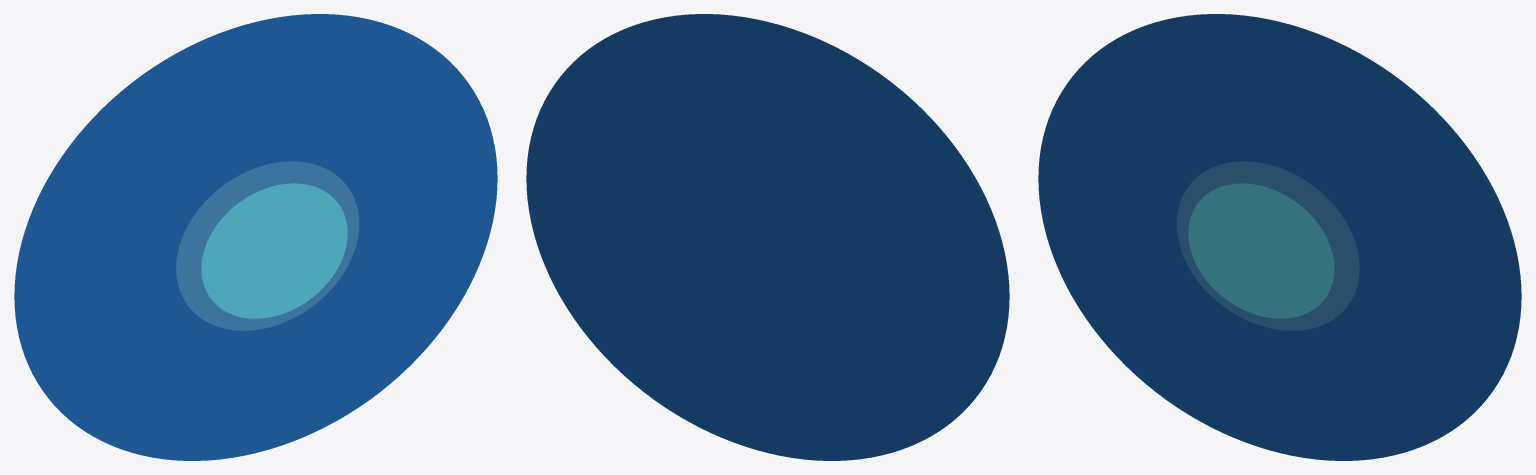
Rendered from BG_GameTitle_WizardsBeLike.fbx.
3 renders of one model, left to right at view 1: azimuth 30°, elevation 25°; view 2: azimuth 150°, elevation 25°; view 3: azimuth 330°, elevation 25°, orthographic.
Parts seen in each view (by area): view 1: Circle, Circle.002, Circle.001; view 2: Circle; view 3: Circle, Circle.002, Circle.001.
Part boxes in pixels (box(x1,y1,x2,y2)): Circle: box(14, 14, 497, 460); Circle.002: box(201, 183, 347, 318); Circle.001: box(176, 161, 359, 330); Circle: box(526, 14, 1009, 460); Circle: box(1038, 14, 1521, 460); Circle.002: box(1188, 183, 1334, 318); Circle.001: box(1176, 161, 1359, 330).
Bounding box in the file's own units: 472 × 402 × 31.4.
Materials: 1 (1 with a texture image).
